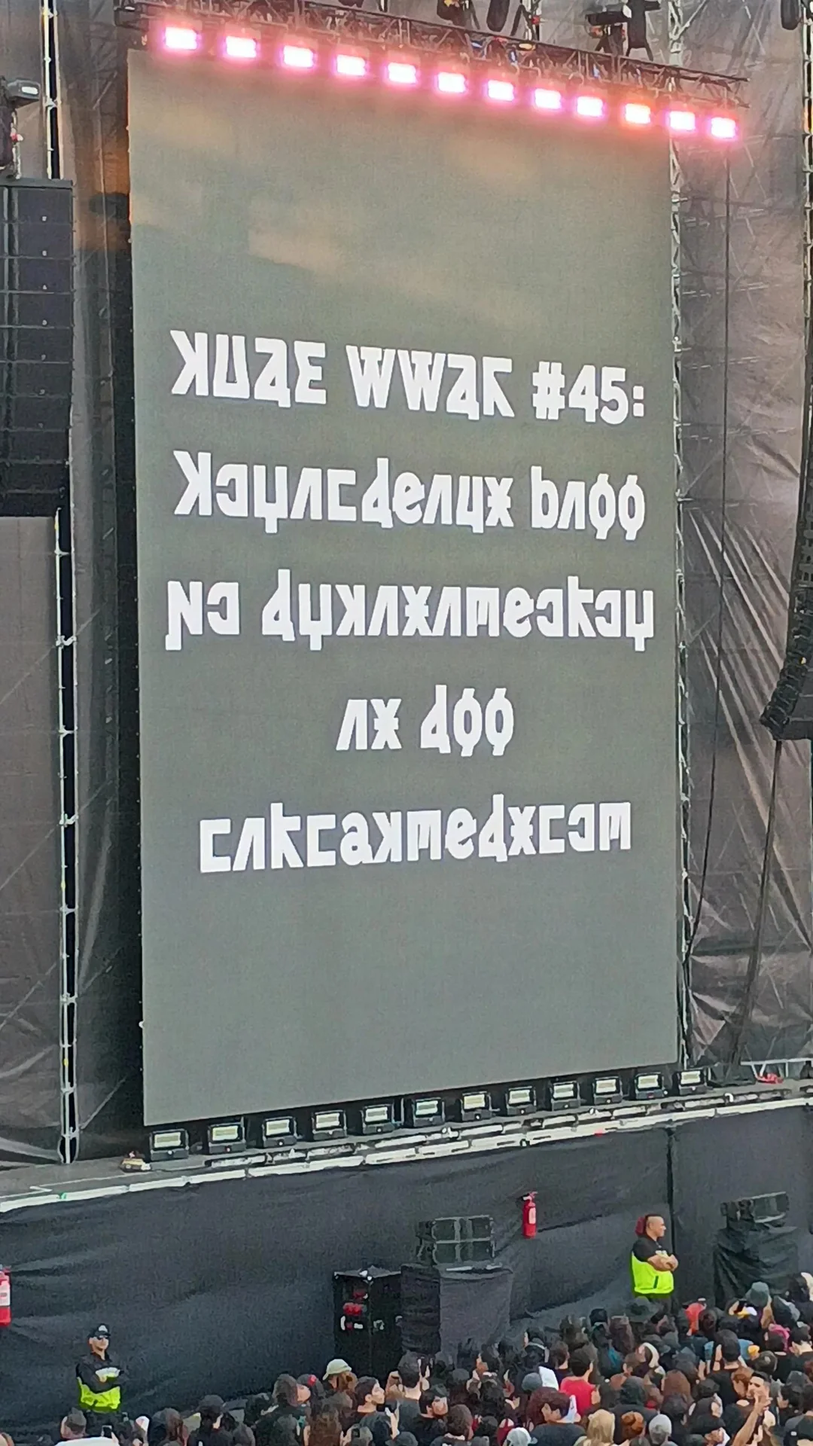4: (565, 361, 601, 428)
5: (597, 362, 634, 430)
A: (250, 326, 296, 410), (441, 350, 484, 422)
M: (162, 324, 216, 403), (168, 447, 214, 518)
O: (208, 326, 253, 403)
P: (343, 339, 400, 412), (393, 344, 450, 417)
R: (478, 352, 521, 425)
T: (289, 333, 334, 411)
a: (257, 565, 300, 646), (356, 456, 395, 534), (417, 682, 454, 759), (474, 791, 512, 864)
b: (162, 572, 206, 651)
c: (195, 809, 233, 881), (302, 810, 340, 874), (323, 467, 363, 527), (534, 799, 568, 857)
d: (294, 578, 334, 654), (250, 461, 290, 534), (623, 584, 655, 653)
e: (204, 577, 245, 641), (213, 458, 250, 521), (592, 585, 627, 644), (533, 584, 567, 643), (565, 799, 599, 857)
i: (231, 813, 269, 878), (288, 464, 328, 524), (334, 692, 369, 759), (428, 580, 465, 643), (367, 580, 403, 643), (555, 475, 589, 534), (421, 472, 456, 529)
l: (449, 684, 486, 761), (480, 683, 517, 760), (613, 471, 645, 544), (586, 472, 615, 538)
m: (332, 579, 369, 642), (370, 807, 406, 866)
n: (367, 694, 406, 756), (397, 581, 434, 644), (483, 472, 518, 536), (505, 801, 539, 862)
o: (451, 472, 486, 535)
r: (264, 799, 306, 872), (562, 573, 597, 643)
s: (462, 580, 504, 640), (405, 805, 443, 866), (599, 798, 636, 855)
t: (389, 468, 427, 531), (499, 583, 537, 641), (442, 804, 477, 864)
u: (337, 808, 376, 868)
w: (527, 461, 561, 532)
